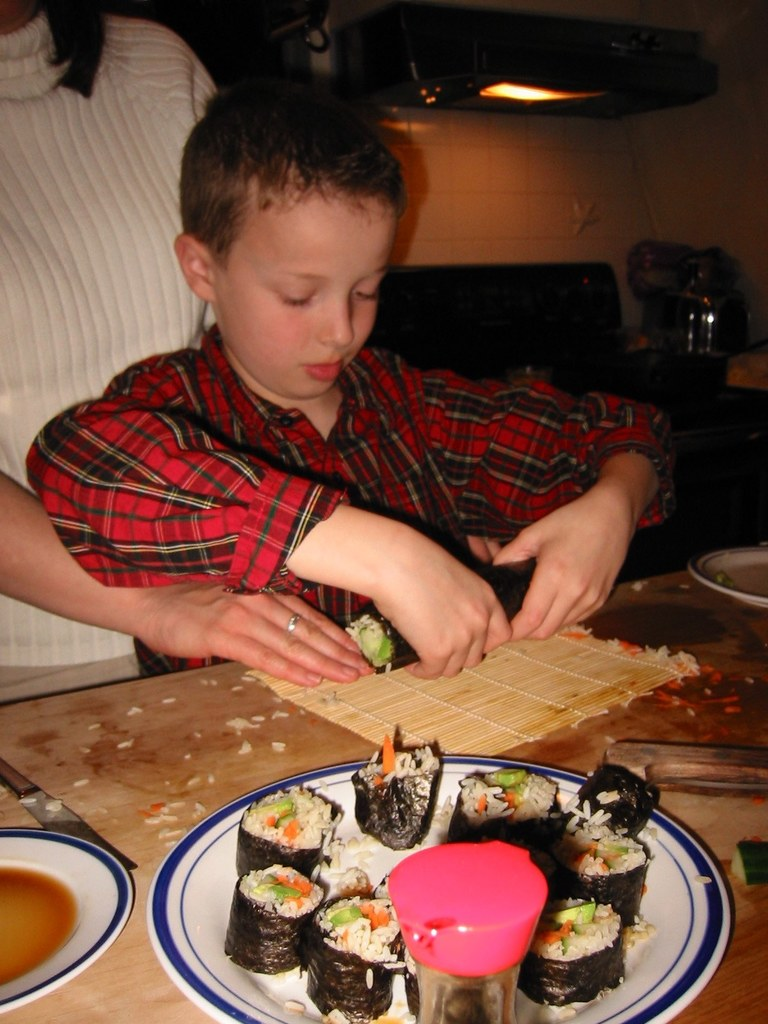sushi: (546, 811, 649, 925), (518, 899, 623, 1002), (224, 867, 321, 977), (355, 736, 438, 853), (233, 788, 338, 879), (443, 774, 565, 843), (317, 911, 401, 1005), (583, 764, 658, 837)
